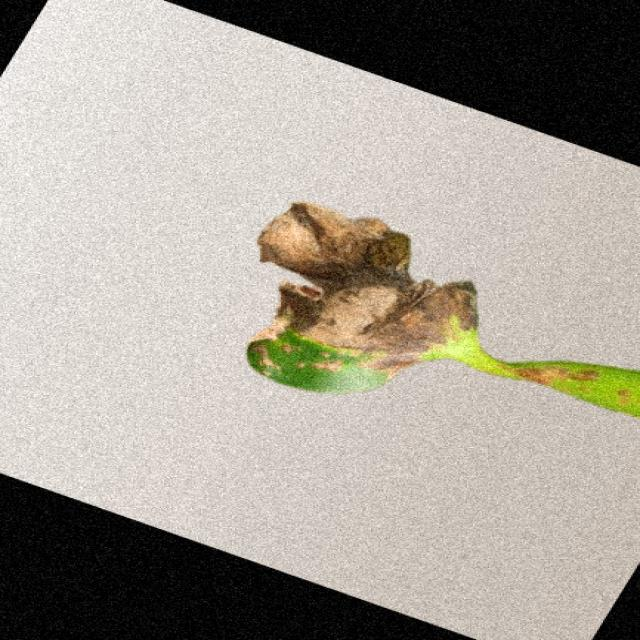daun berpenyakit karat: (248, 202, 638, 416)
